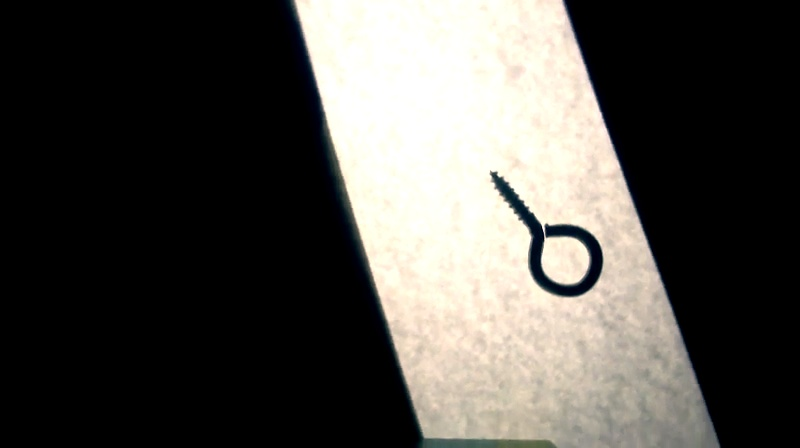O001: (487, 167, 608, 301)
